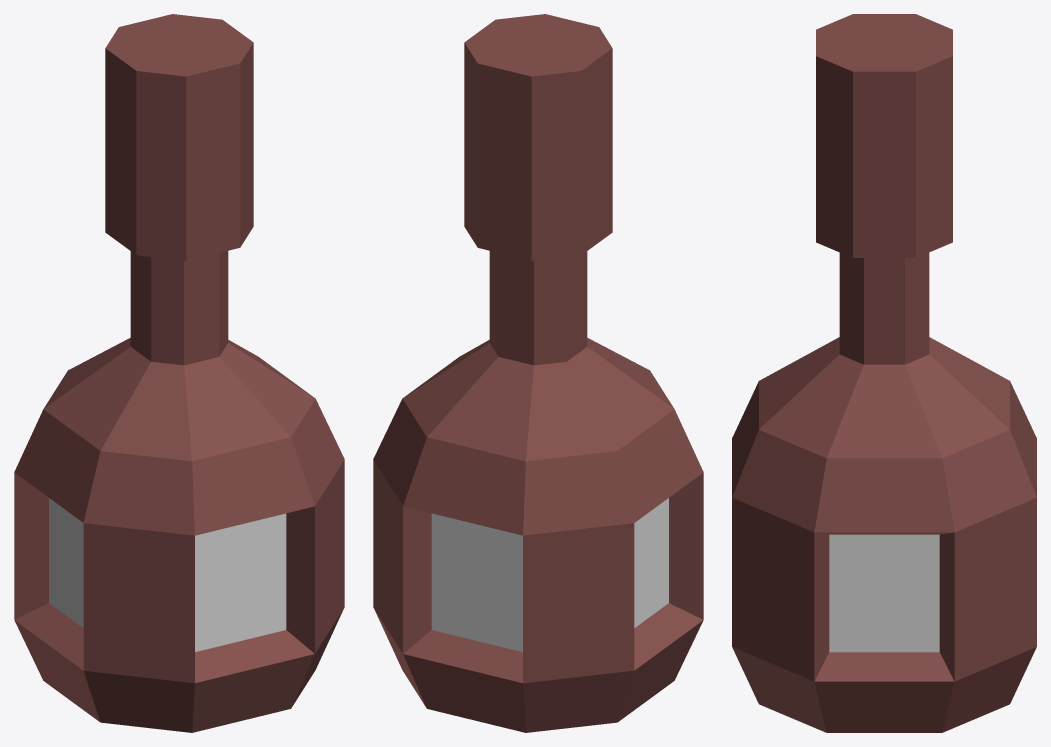
Rendered from lantern.fbx.
3 views of the same model, side by side, from view 1: azimuth 30°, elevation 25°; view 2: azimuth 150°, elevation 25°; view 3: azimuth 270°, elevation 25° (orthographic).
Parts seen in each view (by area): view 1: Cube.093; view 2: Cube.093; view 3: Cube.093.
Boxes of the visible parts, left/top/right/bottom form: Cube.093: left=14, top=14, right=344, bottom=732; Cube.093: left=373, top=14, right=703, bottom=732; Cube.093: left=732, top=14, right=1036, bottom=732.
Size of the model in its own units: 189 by 435 by 189.
